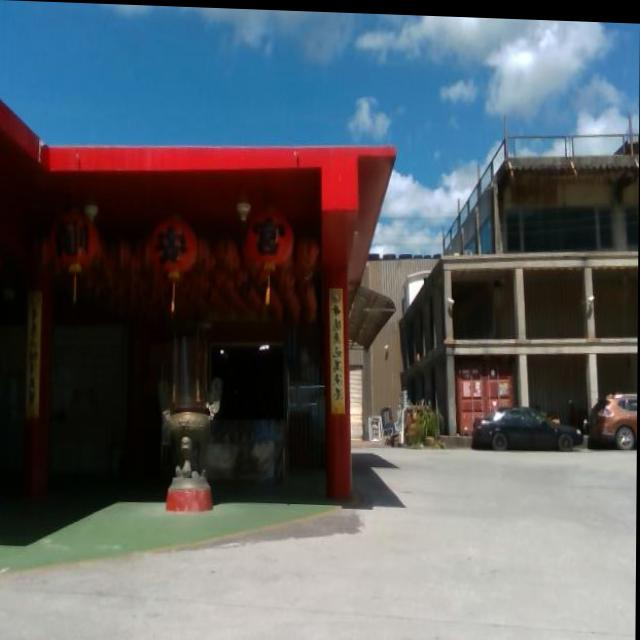pollute: (365, 386, 428, 445)
